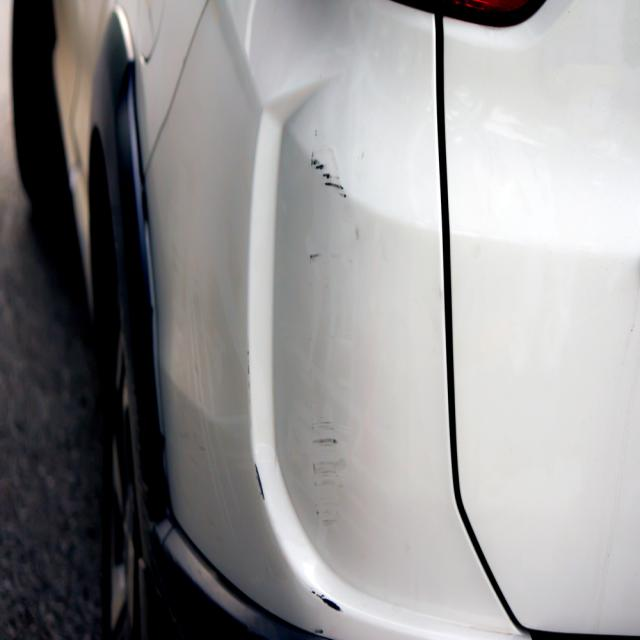scratch: (302, 132, 360, 537), (310, 585, 349, 617), (252, 458, 268, 506)
